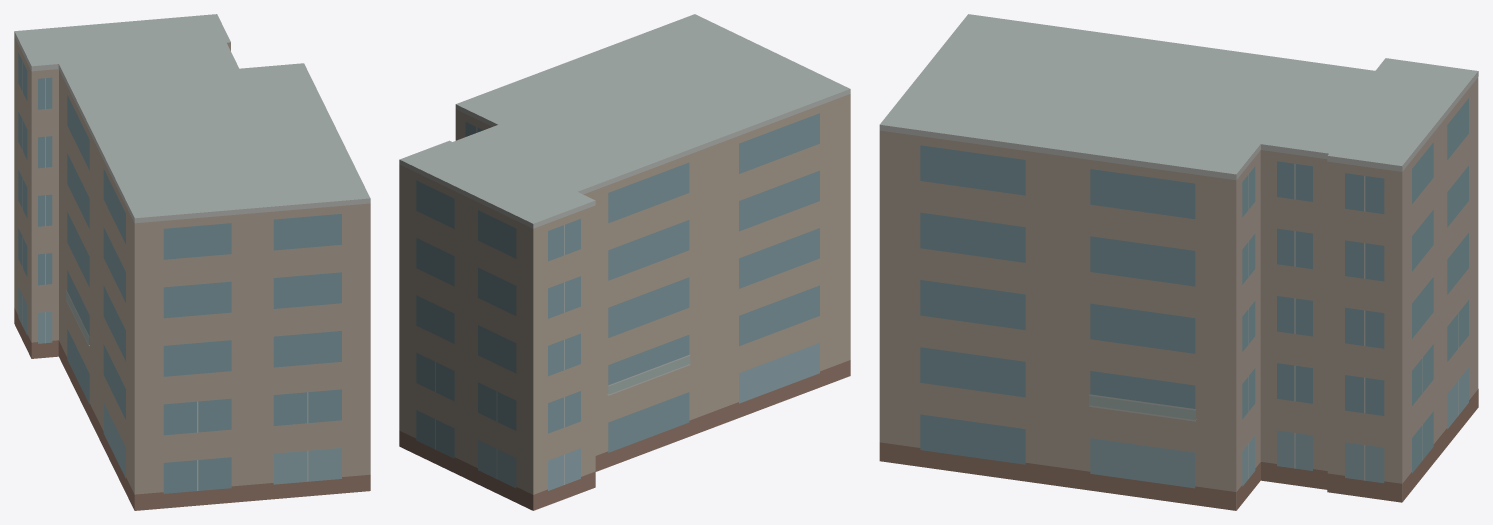
Rendered from survey-upis-33007853.glb.
3 renders of one model, left to right at view 1: azimuth 30°, elevation 25°; view 2: azimuth 150°, elevation 25°; view 3: azimuth 270°, elevation 25°, orthographic. The views are drawn at different scales.
Parts seen in each view (by area): view 1: survey-upis-33007853.tmp; view 2: survey-upis-33007853.tmp; view 3: survey-upis-33007853.tmp.
Part boxes in pixels (x1,y1,x2,y2): survey-upis-33007853.tmp: [14, 14, 370, 510]; survey-upis-33007853.tmp: [399, 14, 850, 510]; survey-upis-33007853.tmp: [879, 14, 1478, 510].
Bounding box in the file's own units: 14.53 × 14.2 × 22.92.
